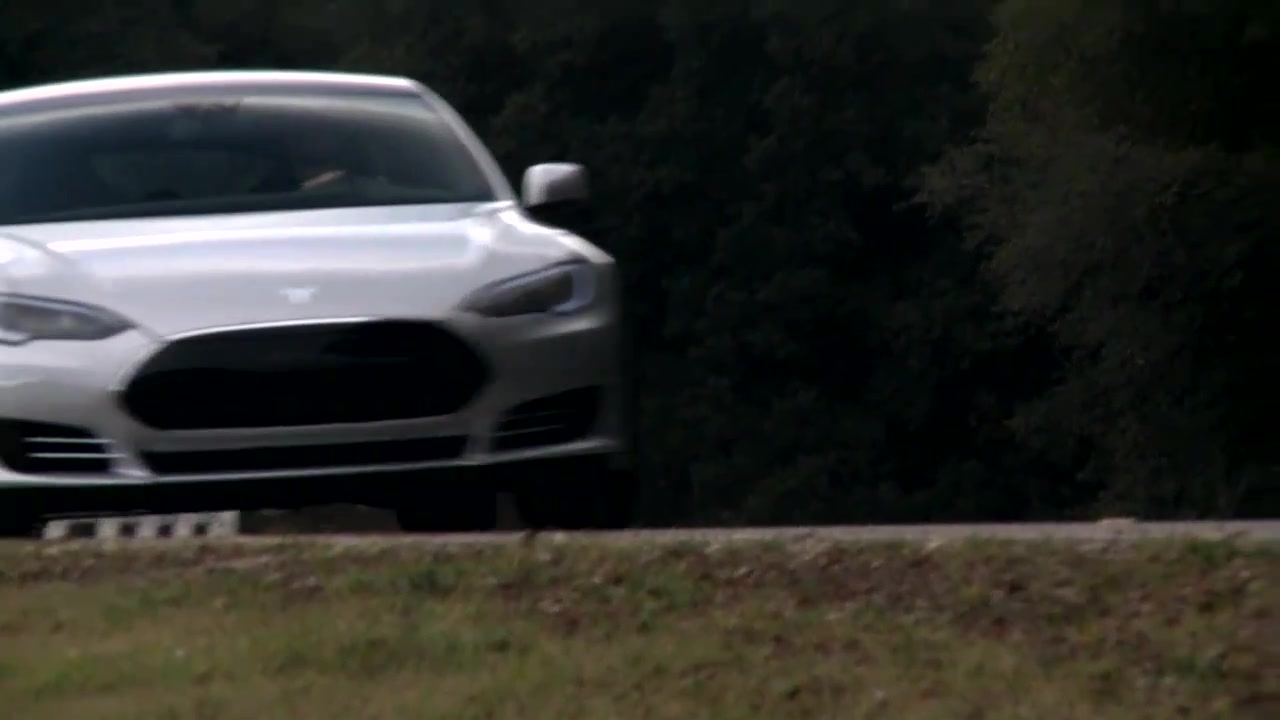car: (1, 58, 632, 536)
